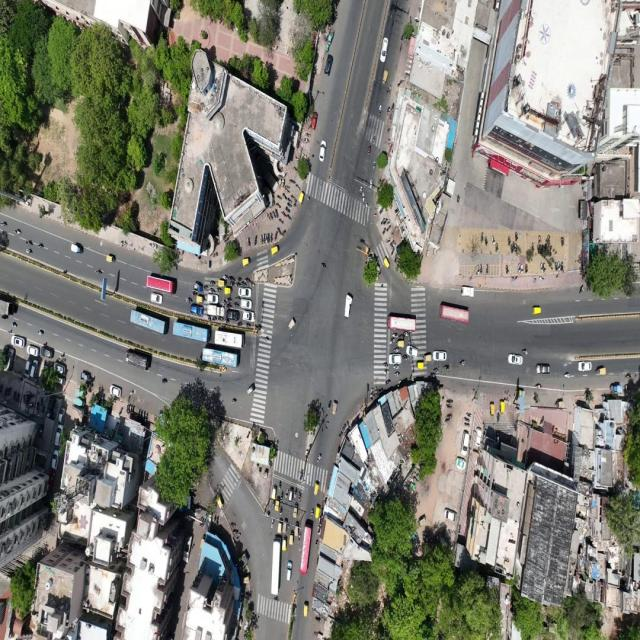3W: (67, 240, 86, 259), (286, 316, 298, 334), (214, 490, 224, 511), (246, 380, 257, 396), (302, 599, 310, 621), (297, 190, 306, 209), (530, 304, 542, 318), (312, 480, 321, 497), (382, 257, 392, 272), (104, 252, 116, 264), (381, 68, 389, 86), (594, 367, 608, 377), (332, 398, 339, 418), (192, 281, 203, 293), (414, 360, 425, 372), (242, 254, 252, 267), (489, 402, 496, 418), (270, 246, 281, 256), (271, 483, 277, 501), (423, 352, 433, 362), (315, 504, 321, 520), (282, 517, 288, 533), (282, 534, 287, 553), (500, 399, 506, 414), (277, 517, 282, 535), (289, 528, 294, 546), (196, 295, 205, 304), (224, 286, 233, 295), (217, 278, 227, 286), (275, 496, 280, 512), (293, 503, 298, 519), (396, 341, 406, 348), (294, 524, 299, 538)
Bus: (126, 308, 166, 336), (199, 346, 242, 368), (143, 270, 177, 294), (299, 522, 314, 576), (438, 303, 472, 326), (170, 323, 211, 342), (386, 308, 418, 331), (269, 538, 281, 597), (211, 329, 248, 348)
Cars: (316, 137, 328, 165), (323, 51, 335, 77), (379, 34, 389, 64), (459, 432, 471, 457), (52, 423, 65, 445), (504, 353, 524, 367), (52, 362, 69, 378), (442, 508, 459, 524), (107, 382, 124, 397), (533, 362, 551, 376), (308, 112, 321, 131), (10, 334, 26, 349), (460, 284, 476, 299), (148, 292, 164, 306), (30, 359, 40, 381), (49, 449, 59, 471), (576, 360, 594, 372), (188, 304, 204, 317), (21, 358, 31, 378), (286, 559, 294, 584), (26, 344, 40, 358), (40, 346, 55, 359), (433, 349, 448, 362), (238, 286, 254, 298), (388, 353, 403, 365), (241, 311, 257, 322), (57, 405, 67, 422), (206, 293, 219, 305), (226, 309, 240, 320), (407, 345, 418, 358), (240, 300, 253, 310), (289, 485, 294, 502)
LCV: (206, 305, 225, 316)
M2W: (375, 101, 384, 118), (158, 376, 171, 386), (228, 396, 240, 406), (37, 325, 46, 338), (245, 233, 252, 249), (92, 268, 103, 278), (316, 449, 323, 464), (370, 159, 378, 172), (36, 240, 46, 250), (24, 248, 34, 258), (9, 319, 19, 329), (0, 218, 9, 229), (24, 239, 35, 248), (319, 259, 328, 270), (561, 372, 573, 380), (625, 368, 632, 380), (14, 228, 22, 238), (301, 135, 309, 145), (520, 347, 530, 355), (252, 234, 258, 247), (265, 212, 271, 224), (464, 410, 473, 418), (294, 182, 301, 192), (369, 385, 374, 399), (326, 397, 331, 411), (480, 228, 484, 245), (372, 132, 378, 143), (580, 283, 586, 294), (368, 178, 373, 191), (220, 297, 227, 306), (386, 224, 393, 233), (383, 378, 392, 385), (276, 226, 282, 236), (358, 183, 363, 195), (546, 232, 551, 244), (538, 262, 544, 272), (270, 518, 275, 530), (298, 530, 302, 545), (275, 207, 279, 221), (190, 289, 198, 296), (209, 278, 216, 286), (485, 263, 489, 277), (535, 382, 542, 390), (560, 235, 565, 246), (561, 261, 566, 272), (278, 216, 284, 225), (390, 248, 396, 257), (460, 358, 466, 367), (386, 84, 390, 97), (476, 263, 480, 276), (280, 490, 284, 503), (490, 236, 495, 246), (462, 417, 472, 422), (279, 506, 284, 516), (276, 194, 283, 201), (289, 178, 296, 185), (185, 297, 192, 304), (221, 273, 228, 280), (383, 368, 390, 375), (433, 367, 440, 374), (281, 211, 287, 219), (209, 286, 215, 294), (236, 274, 242, 282), (367, 144, 371, 156), (480, 263, 484, 275), (505, 264, 509, 276), (515, 230, 519, 242), (446, 396, 454, 402), (374, 385, 378, 397), (393, 371, 401, 377), (278, 479, 282, 491), (298, 491, 302, 503), (294, 484, 297, 500), (537, 234, 542, 243), (392, 365, 401, 370), (390, 333, 399, 338), (362, 192, 366, 203), (495, 242, 499, 253), (518, 263, 522, 274), (525, 263, 529, 274), (270, 501, 274, 512), (290, 194, 296, 201), (286, 202, 292, 209), (284, 186, 290, 193), (203, 284, 209, 291), (227, 295, 233, 302), (233, 302, 240, 308), (226, 303, 233, 309), (380, 218, 386, 225), (444, 364, 450, 371), (389, 339, 396, 345), (381, 227, 386, 235), (557, 260, 561, 270), (446, 413, 454, 418), (383, 360, 388, 368), (263, 232, 266, 245), (485, 234, 488, 247), (270, 233, 274, 242), (216, 287, 222, 293), (244, 276, 250, 282), (250, 281, 256, 287), (229, 274, 235, 280), (385, 238, 391, 244), (543, 263, 547, 272), (446, 403, 452, 409), (398, 334, 404, 340), (311, 508, 314, 520), (285, 486, 288, 498), (445, 418, 452, 423), (464, 423, 471, 428), (403, 332, 410, 337), (508, 235, 511, 246), (497, 411, 500, 422), (230, 280, 235, 286), (234, 297, 240, 301)
Truck: (122, 350, 152, 374), (342, 292, 354, 324)
